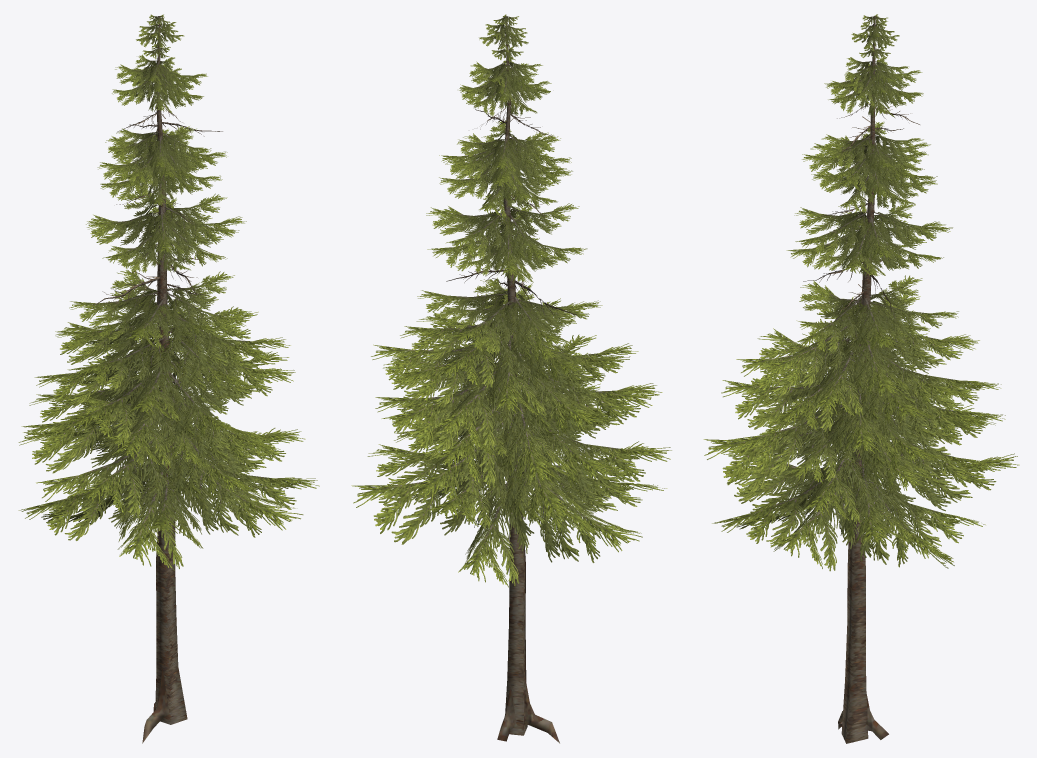
Rendered from SM_PineTree_03.fbx.
The picture shows the model from 3 angles, left to right: view 1: azimuth 30°, elevation 25°; view 2: azimuth 150°, elevation 25°; view 3: azimuth 270°, elevation 25°; orthographic projection. The views are drawn at different scales.
Visible parts, largest first — view 1: SM_PineTree_03; view 2: SM_PineTree_03; view 3: SM_PineTree_03.
Part boxes in pixels (x1,y1,x2,y2): SM_PineTree_03: (18, 14, 319, 743); SM_PineTree_03: (351, 14, 671, 743); SM_PineTree_03: (703, 14, 1019, 743).
Bounding box in the file's own units: 604 × 1523 × 606.
